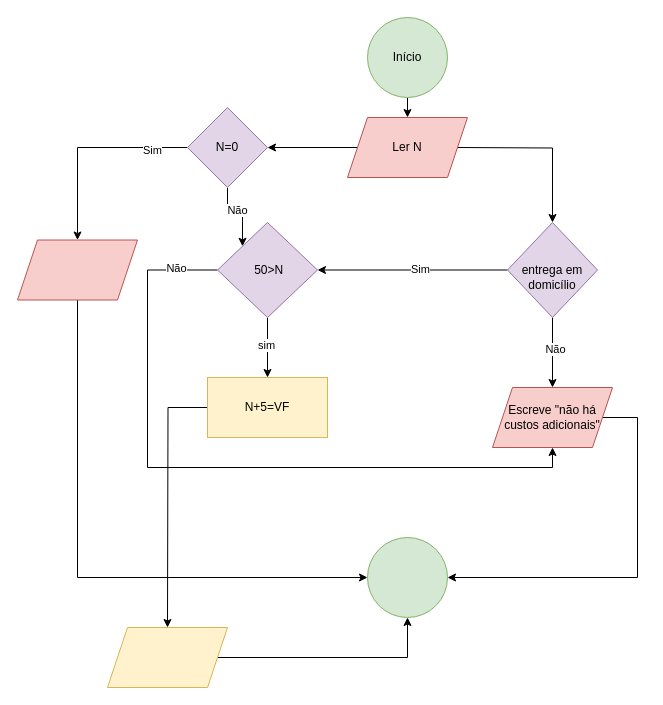
This 663x705 diagram has some shape labels left out. Each missing label, with the centre of its shape:
Dizer=VF: (x=167, y=657)
Escreve "dados invalidos: (x=77, y=269)
Fim: (x=407, y=577)
